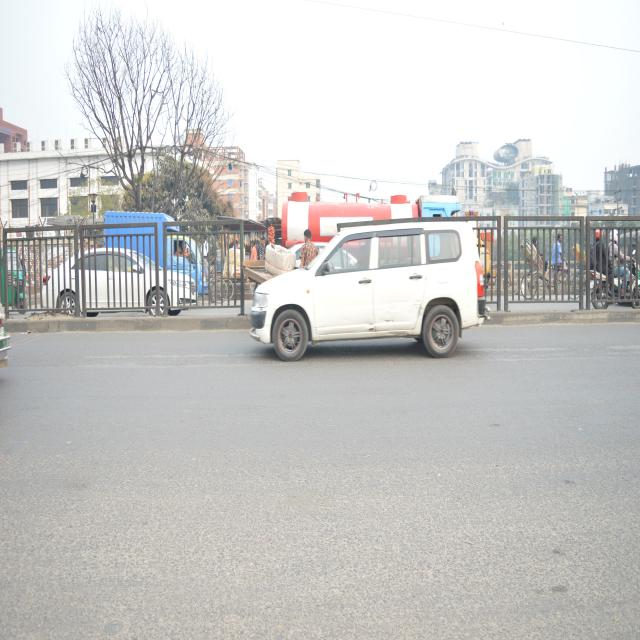car: (245, 212, 483, 382), (44, 240, 190, 320)
pickup-van: (104, 207, 213, 299)
